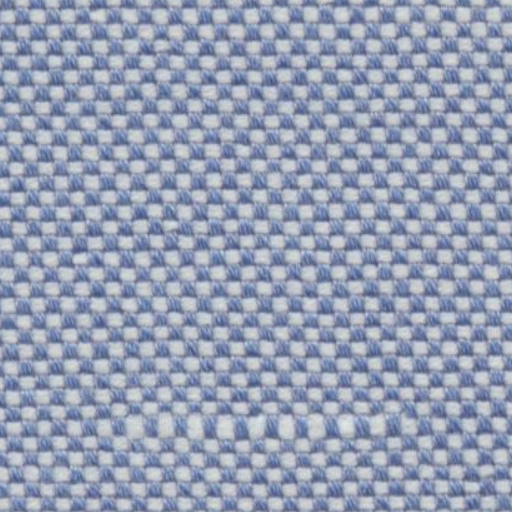DaiSha: (96, 392, 424, 446)
